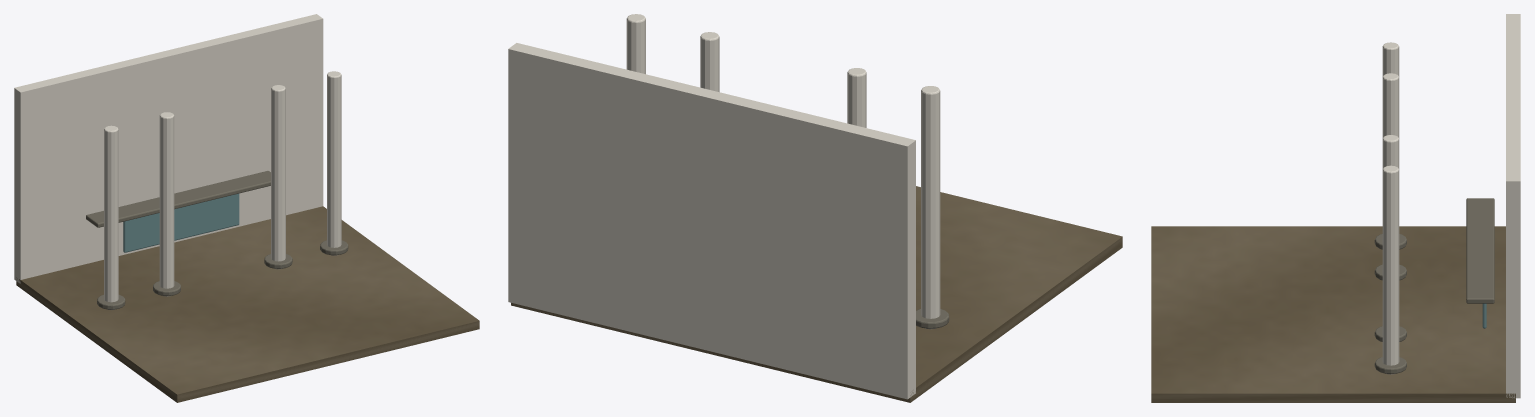
File: luminous-passage-finish-alcove.glb
The picture shows the model from 3 angles, left to right: view 1: azimuth 30°, elevation 25°; view 2: azimuth 150°, elevation 25°; view 3: azimuth 270°, elevation 25°; orthographic projection. The views are drawn at different scales.
Parts seen in each view (by area): view 1: Alcove_back, Alcove_floor, Alcove_slab, Finish_rib.001, Finish_rib.002, Finish_rib.003, Finish_rib, Alcove_shelf; view 2: Alcove_back, Alcove_floor, Finish_rib, Finish_rib.002, Finish_rib.001, Finish_rib.003; view 3: Alcove_floor, Alcove_back, Finish_rib.003, Alcove_shelf, Finish_rib.001, Finish_rib, Finish_rib.002, Finish_rib_base.003.
Boxes of the visible parts, x1,y1,x2,y2 form: Alcove_back: [14, 14, 323, 283]; Alcove_floor: [16, 206, 479, 402]; Alcove_slab: [123, 193, 239, 252]; Finish_rib.001: [159, 112, 174, 296]; Finish_rib.002: [271, 85, 285, 269]; Finish_rib.003: [327, 71, 341, 255]; Finish_rib: [104, 125, 118, 310]; Alcove_shelf: [86, 171, 270, 227]; Alcove_back: [508, 43, 915, 399]; Alcove_floor: [511, 186, 1122, 402]; Finish_rib: [921, 86, 940, 329]; Finish_rib.002: [700, 32, 719, 92]; Finish_rib.001: [847, 68, 866, 127]; Finish_rib.003: [626, 14, 645, 74]; Alcove_floor: [1151, 226, 1515, 402]; Alcove_back: [1506, 14, 1520, 398]; Finish_rib.003: [1382, 165, 1399, 374]; Alcove_shelf: [1466, 198, 1494, 303]; Finish_rib.001: [1382, 73, 1399, 138]; Finish_rib: [1382, 42, 1399, 76]; Finish_rib.002: [1382, 135, 1399, 169]; Finish_rib_base.003: [1374, 357, 1406, 373].
Bounding box in the file's own units: 7.6 × 4.7 × 7.09.
4 materials, 1 textured.
